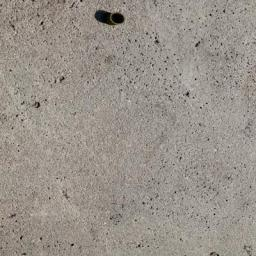FOD: (96, 7, 126, 33)
